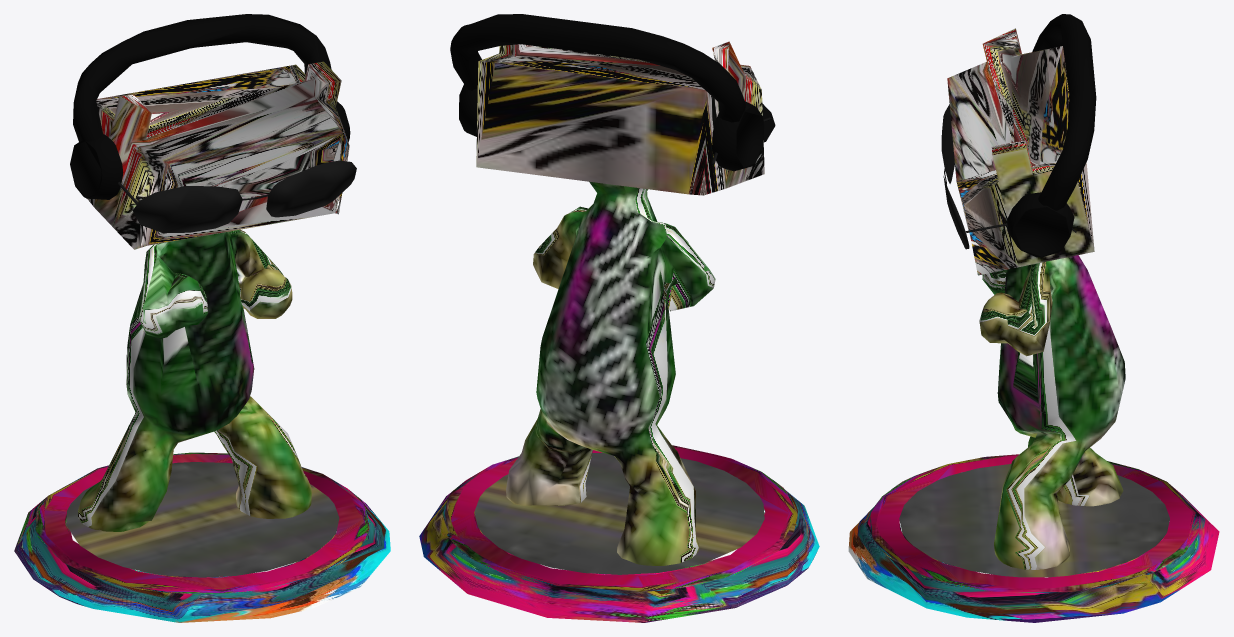
3 renders of one model, left to right at view 1: azimuth 30°, elevation 25°; view 2: azimuth 150°, elevation 25°; view 3: azimuth 270°, elevation 25°, orthographic. The views are drawn at different scales.
Size of the model in its own units: 1.45 by 2.13 by 1.44.
Materials: 6 (4 with a texture image).
